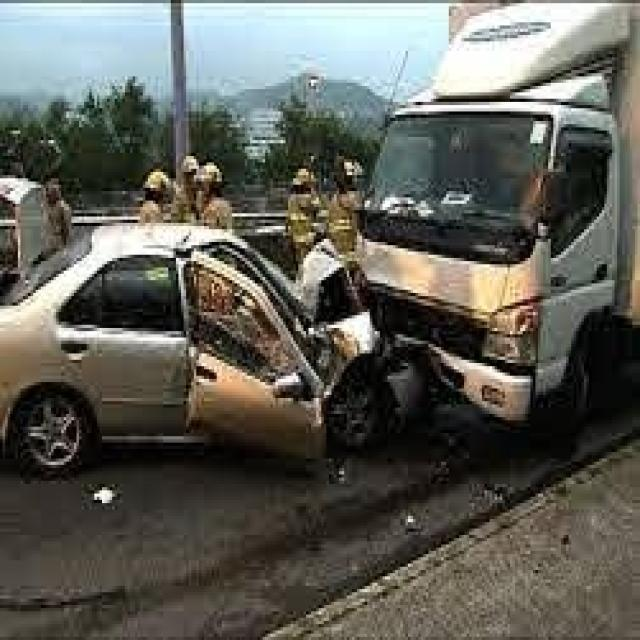accident: (138, 180, 566, 503)
